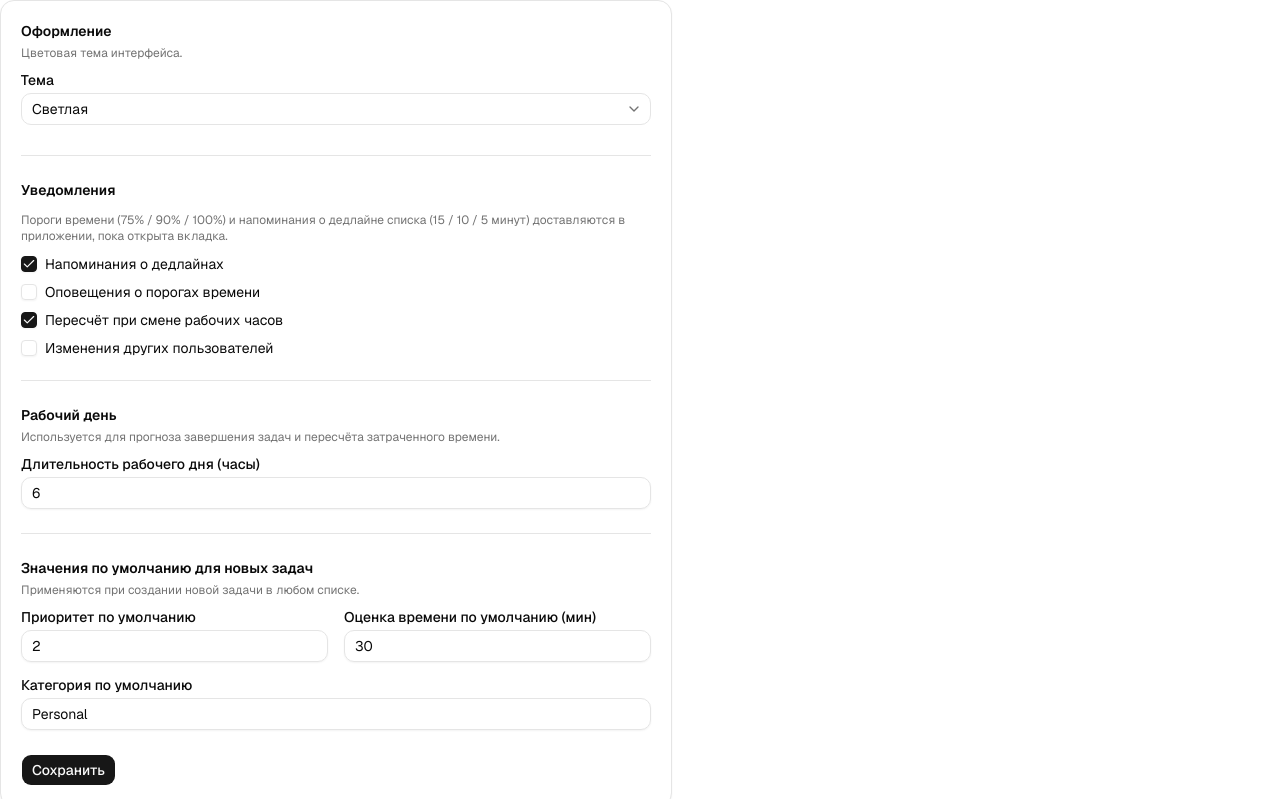
Test: SettingsForm › saves only the changed theme field
The image size is (1280, 799).
What coordinates should you click on to do the following:
click the dropdown named "Тема"
I would click on:
 (60, 109)
Its box is 21,93 -> 651,125.
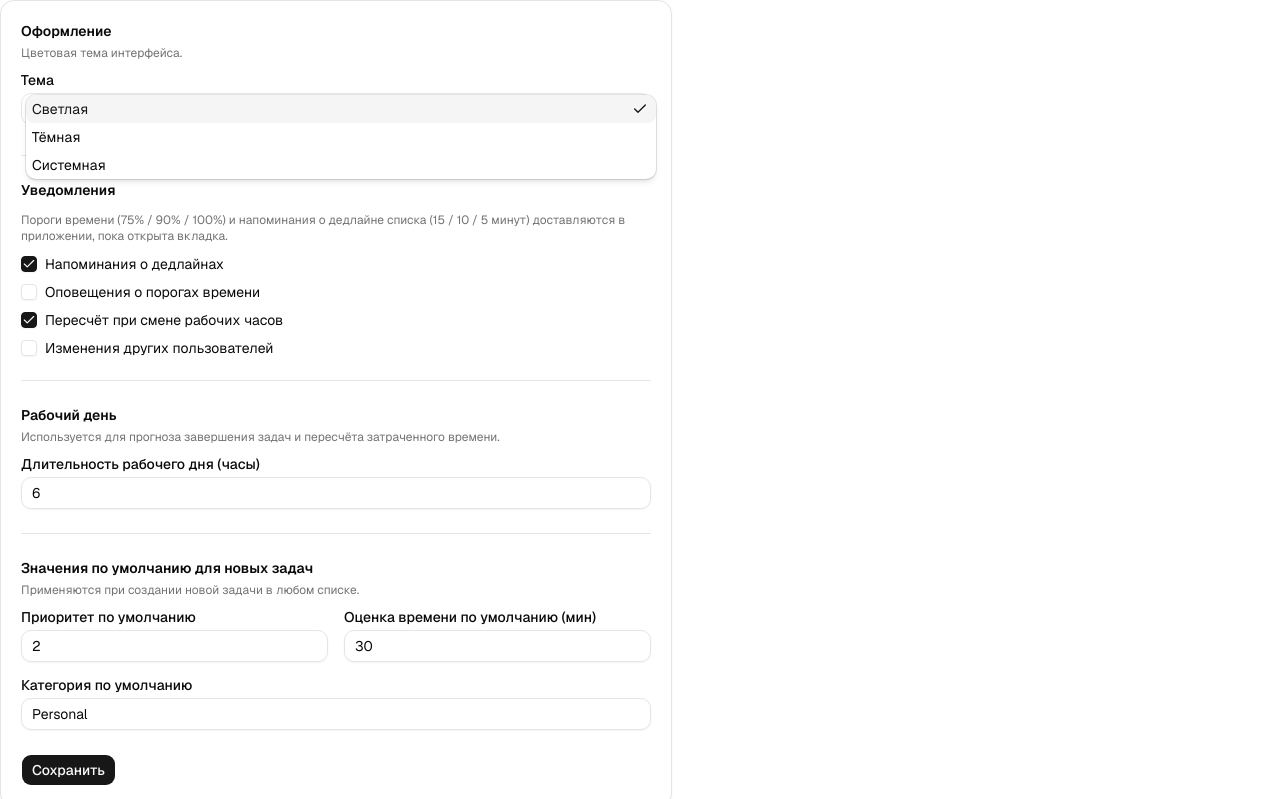
What coordinates should you click on to do the following:
click the option "Тёмная"
I would click on:
 (56, 137)
Its box is 32,128 -> 80,146.
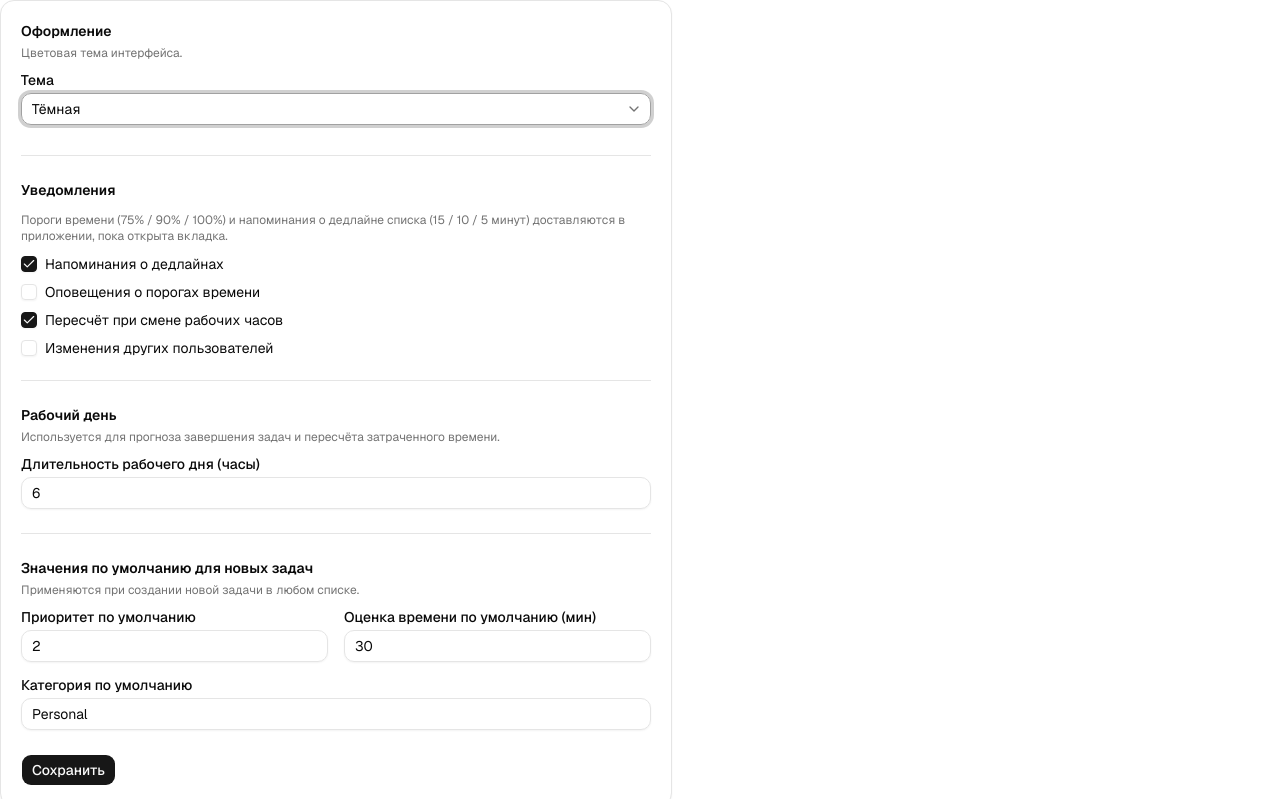
What coordinates should you click on to do the following:
click the button "Сохранить"
I would click on:
 (68, 770)
Its box is 21,754 -> 116,786.
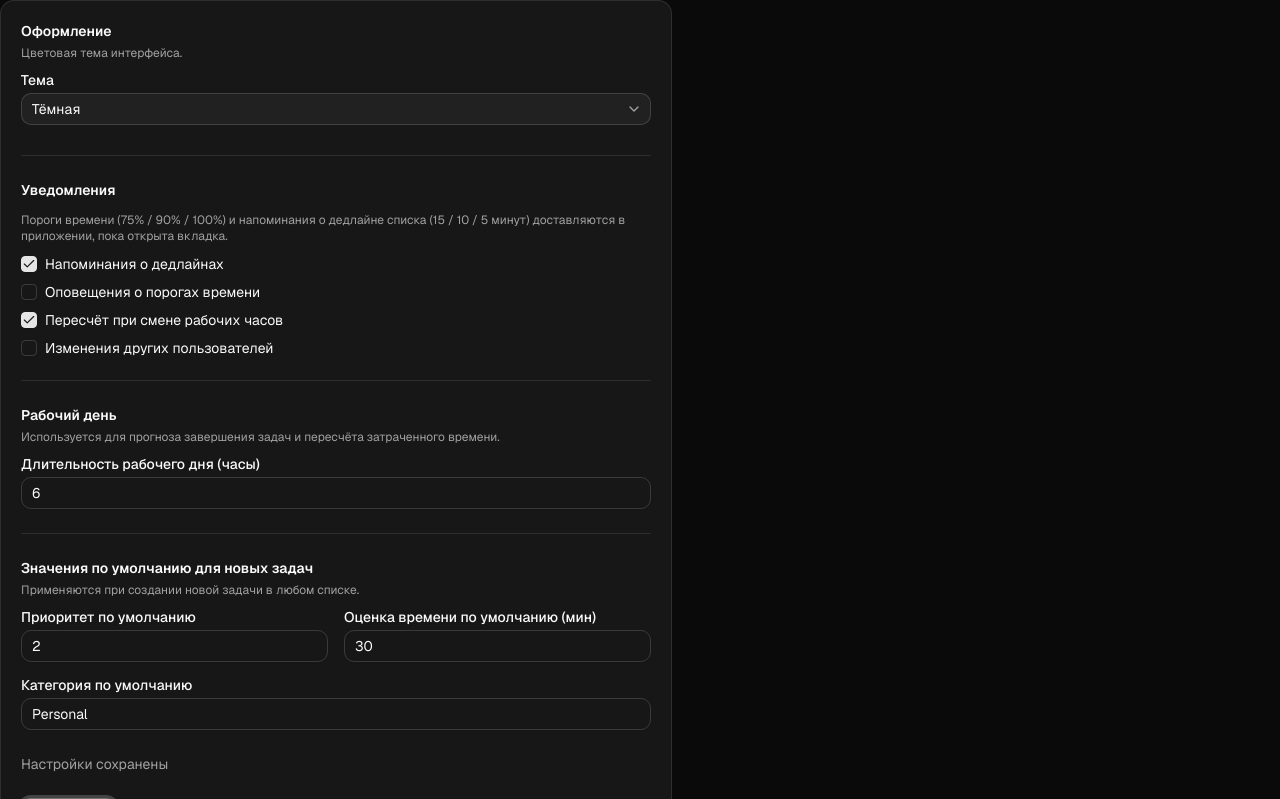
expect the message reads "Настройки сохранены": met, box 21,755 -> 168,773
